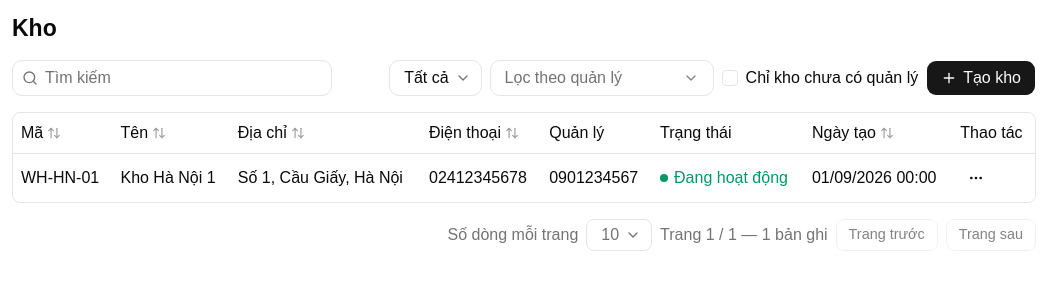
WarehousesPage — tìm kiếm (cờ bật) › gõ vào ô tìm → ghi lên URL và gửi lên backend
expect the link "Kho Hà Nội 1" is shown: met, box [120, 166, 216, 190]
Type "hà nội" into the search field at [172, 78], box [12, 60, 332, 96]
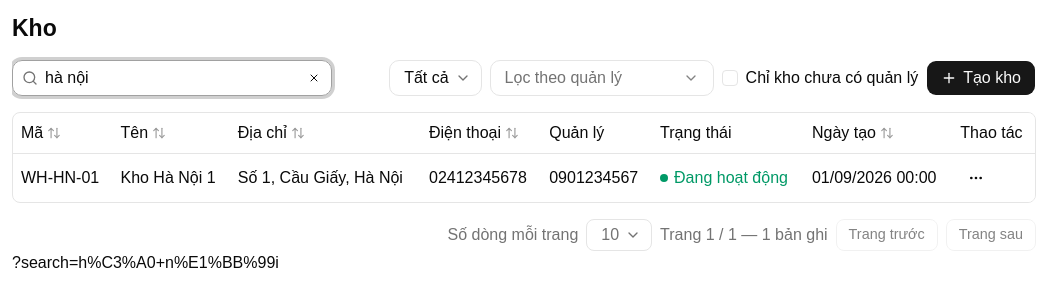
expect the text with test id "location" shows "search=": met, box [12, 254, 279, 270]
